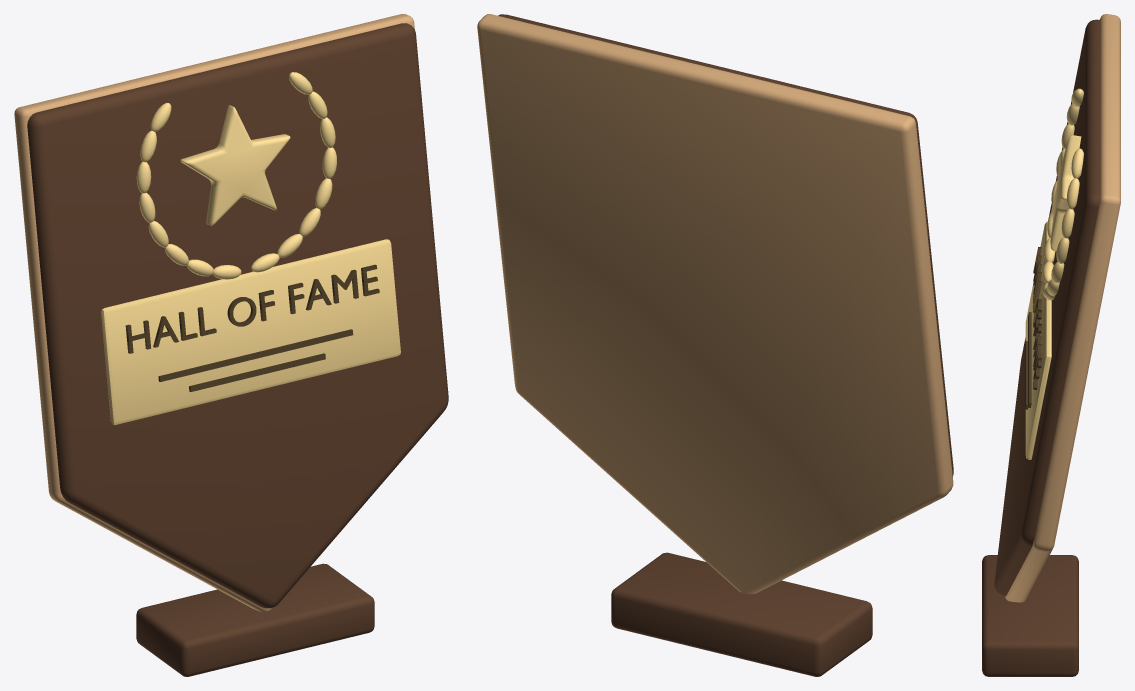
The model's file is reward-hof-plaque.glb.
3 renders of one model, left to right at view 1: azimuth 30°, elevation 25°; view 2: azimuth 150°, elevation 25°; view 3: azimuth 270°, elevation 25°, orthographic. The views are drawn at different scales.
Parts seen in each view (by area): view 1: board, plate, foot, rim.001, star.001, txt, line, line.001; view 2: rim.001, foot, board; view 3: board, rim.001, foot, plate, star.001, txt, line, leaf.014, leaf.015, leaf.013, leaf.012.
Boxes of the visible parts, x1,y1,x2,y2 form: board: [27, 23, 448, 608]; plate: [101, 239, 400, 424]; foot: [136, 563, 374, 676]; rim.001: [14, 14, 414, 611]; star.001: [180, 105, 290, 225]; txt: [125, 264, 379, 353]; line: [158, 329, 353, 381]; line.001: [189, 353, 325, 391]; rim.001: [477, 14, 953, 594]; foot: [611, 552, 872, 676]; board: [498, 14, 953, 476]; board: [994, 19, 1100, 595]; rim.001: [1005, 14, 1120, 602]; foot: [982, 555, 1078, 676]; plate: [1025, 221, 1051, 459]; star.001: [1050, 135, 1081, 251]; txt: [1033, 247, 1041, 389]; line: [1028, 312, 1031, 407]; leaf.014: [1066, 178, 1079, 209]; leaf.015: [1071, 148, 1083, 178]; leaf.013: [1061, 208, 1074, 238]; leaf.012: [1056, 237, 1069, 263].
Size of the model in its own units: 2.04 by 2.71 by 0.6448.
